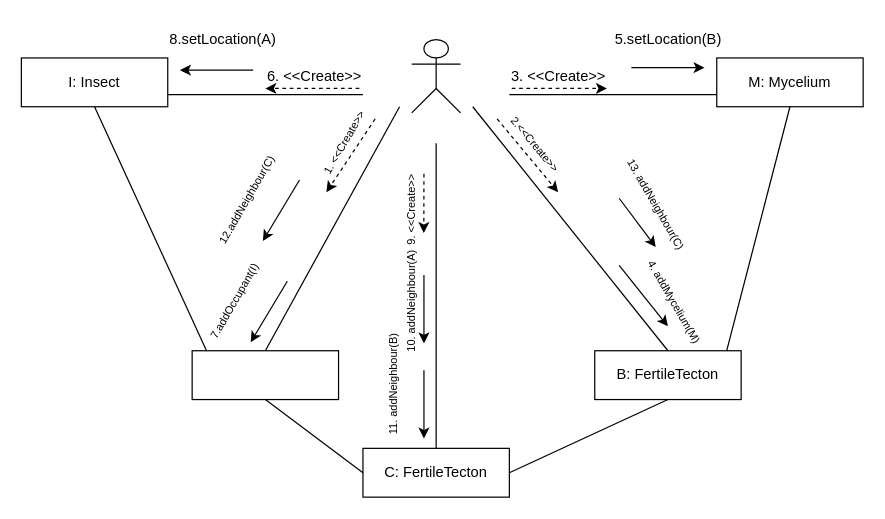
Image size: 885x519. Some labels were removed from this diagram. Each missing label, with the box of its shape:
A: FertileTecton: (191, 350, 339, 400)
Tesztelő: (411, 38, 461, 113)
